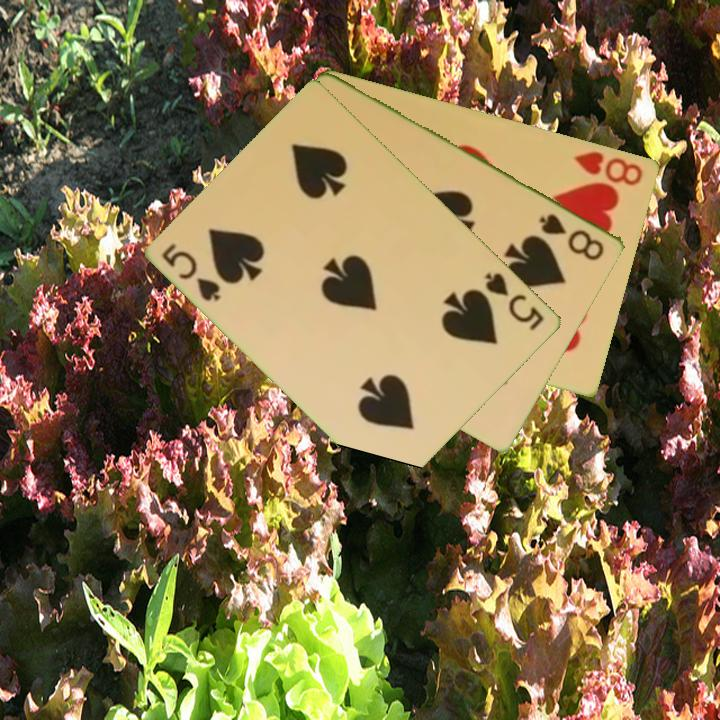5s: (481, 268, 548, 334), (158, 239, 224, 305)
8h: (571, 147, 646, 189)
8s: (536, 209, 608, 264)
